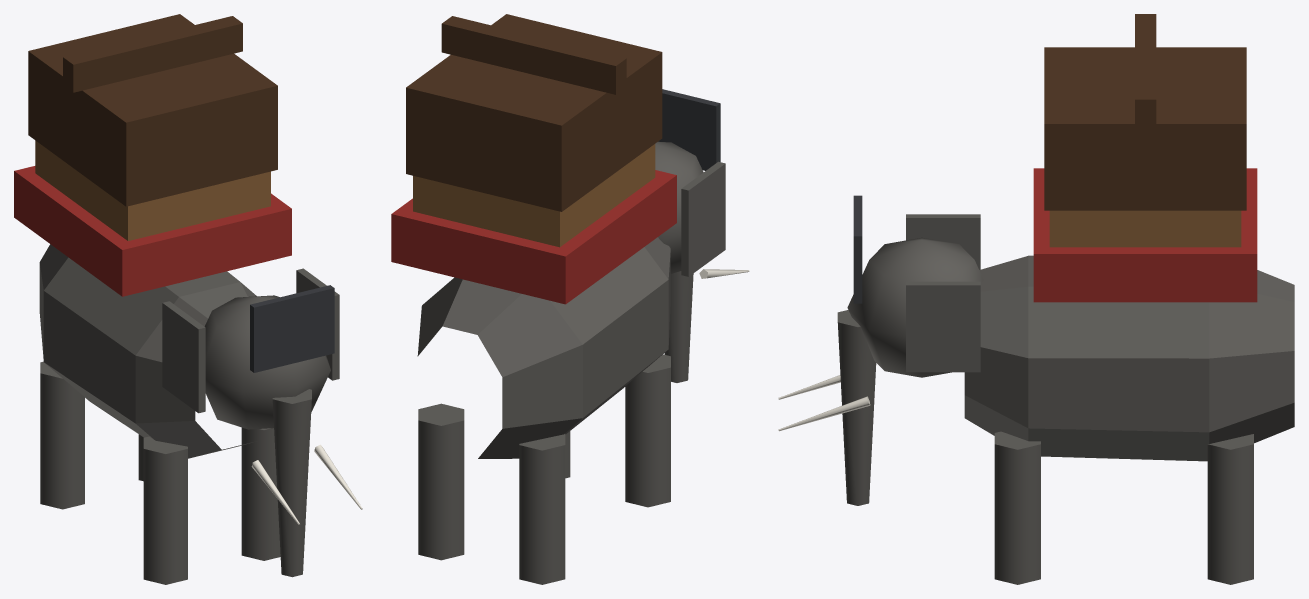
Rendered from unit_mil_war_elephant_a03.glb.
3 views of the same model, side by side, from view 1: azimuth 30°, elevation 25°; view 2: azimuth 150°, elevation 25°; view 3: azimuth 270°, elevation 25° (orthographic). The views are drawn at different scales.
Visible parts, largest first — view 1: body; view 2: body; view 3: body.
Boxes of the visible parts, <box> form: body: <box>14,14,362,584</box>; body: <box>391,14,749,584</box>; body: <box>778,14,1294,584</box>.
Size of what is drawn, in the model's own units: 1.9 by 5.1 by 4.85.
